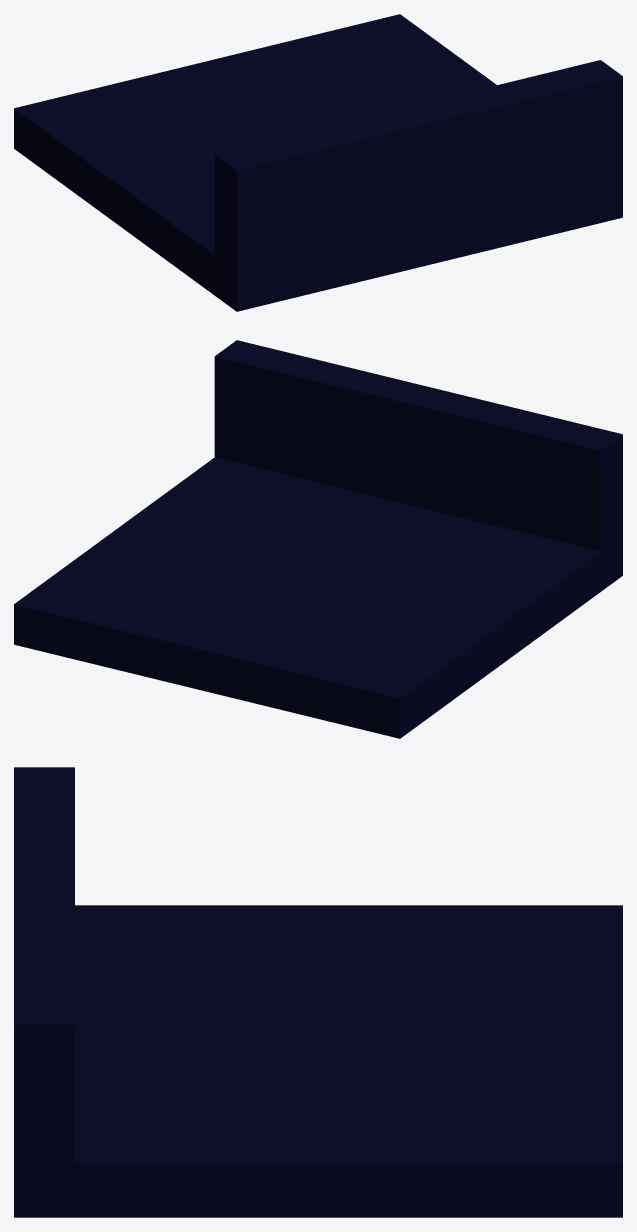
Rendered from NavyRoof_1Edge_Small.glb.
3 views of the same model, one above another, from view 1: azimuth 30°, elevation 25°; view 2: azimuth 150°, elevation 25°; view 3: azimuth 270°, elevation 25° (orthographic). The views are drawn at different scales.
Parts seen in each view (by area): view 1: roof_flat_1Edges_small_navy; view 2: roof_flat_1Edges_small_navy; view 3: roof_flat_1Edges_small_navy.
Boxes of the visible parts, left/top/right/bottom form: roof_flat_1Edges_small_navy: left=14, top=14, right=622, bottom=311; roof_flat_1Edges_small_navy: left=14, top=340, right=622, bottom=738; roof_flat_1Edges_small_navy: left=14, top=767, right=622, bottom=1217.
Size of what is drawn, in the model's own units: 2 by 0.7 by 2.
1 material, 1 textured.
